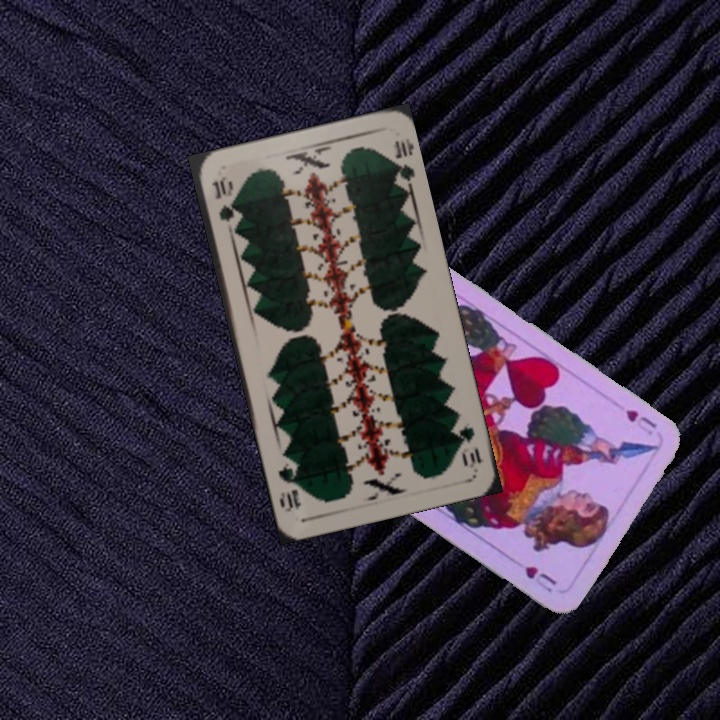G10: (207, 172, 237, 225), (452, 422, 485, 470)
HU: (621, 405, 659, 438)
